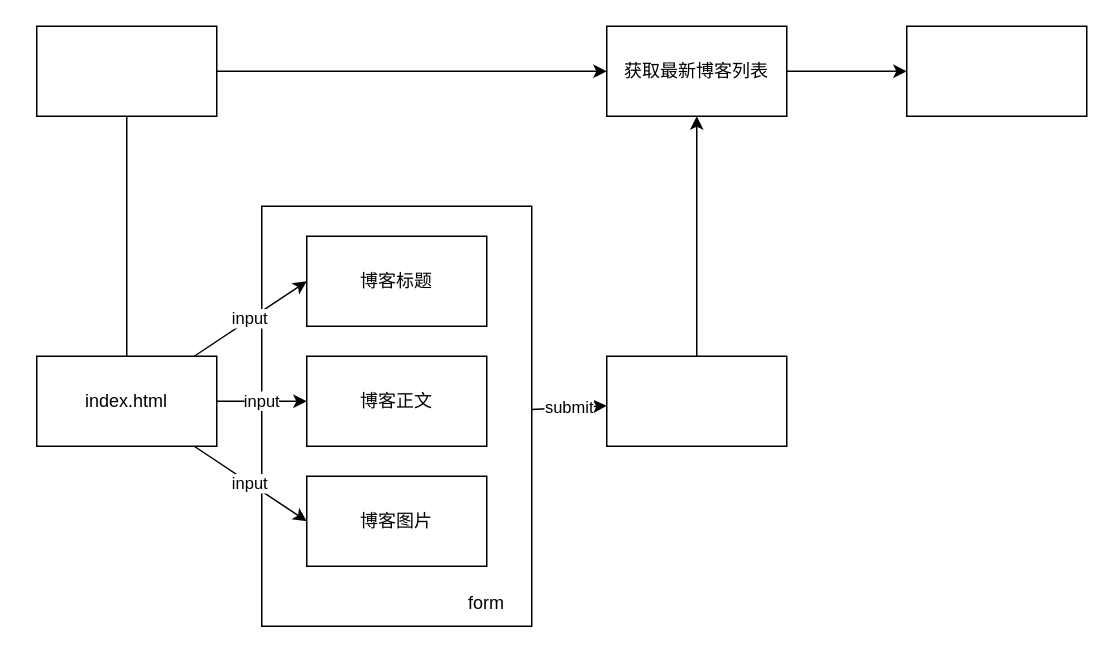
Some shapes in this 1113 by 653 pixel diagram are drawn without their labels. The shapes that lost their labels are listed below. From the top down, each one's centre as x and y in pixels, then its label:
the point at 126,70: 翻页
the point at 996,70: 更新博客显示
the point at 696,400: 发表博客
